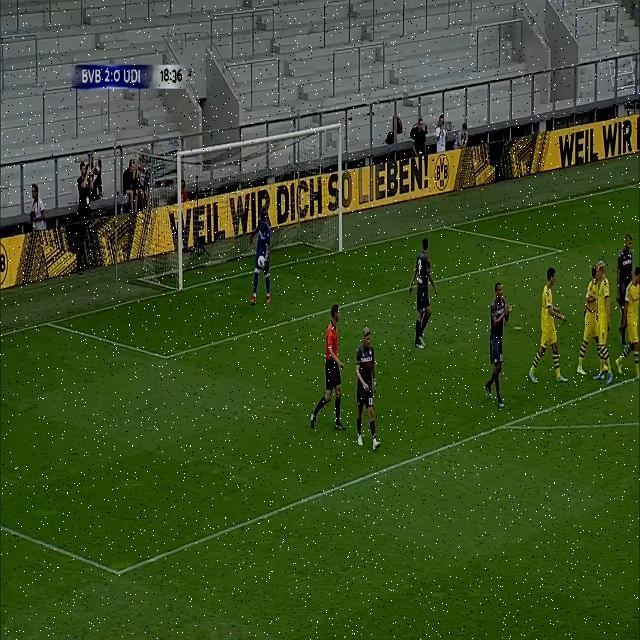ball: (258, 255, 266, 269)
goalkeeper: (249, 208, 273, 307)
player: (347, 323, 383, 447), (530, 268, 566, 382), (404, 235, 438, 353), (482, 279, 508, 415), (578, 256, 600, 388), (594, 250, 615, 387), (619, 267, 639, 387), (618, 236, 638, 342)
referee: (309, 299, 345, 435)
